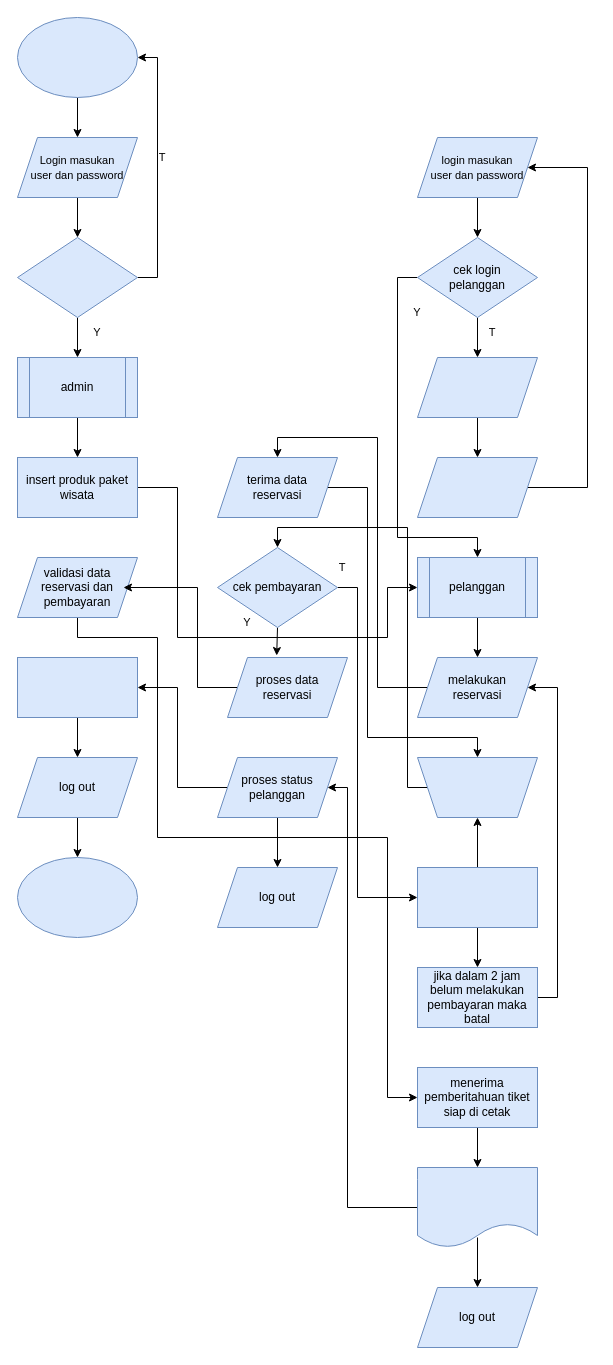
Some shapes in this 613 by 1365 pixel diagram are drawn without their labels. Here are the shapes that lost their labels. From the top down, the centre of each, then its label:
At point 77,57: "start".
At point 77,277: "cek login admin".
At point 477,387: "registrasi".
At point 477,487: "mengisi data diri".
At point 77,687: "informasi status pelanggan".
At point 477,787: "melakukan pembayaran".
At point 77,897: "selesai".
At point 477,897: "menerima pemberitahuan pembayaran belum lunas".
At point 477,1207: "cetak tiket".
